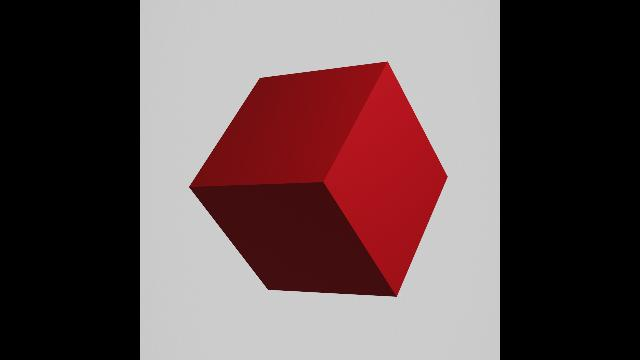Cube: (186, 56, 448, 300)
